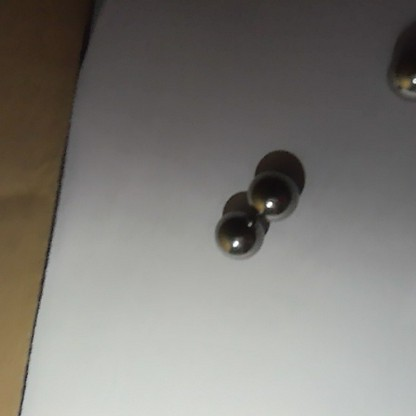ironball: (210, 214, 267, 259), (249, 170, 298, 219), (386, 51, 415, 104)
